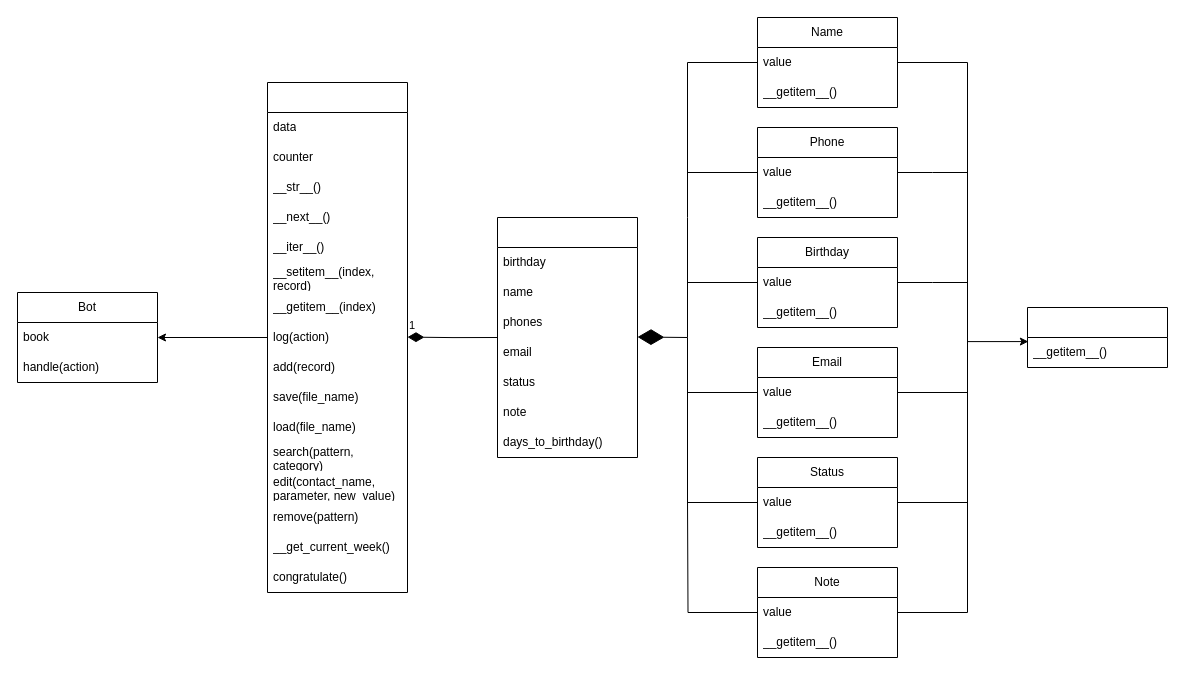
Some shapes in this 1185 by 675 pixel diagram are drawn without their labels. Each missing label, with the box of its shape:
AddressBook(UserList): (266, 82, 408, 592)
Field: (1026, 306, 1168, 368)
Record: (496, 216, 638, 458)
